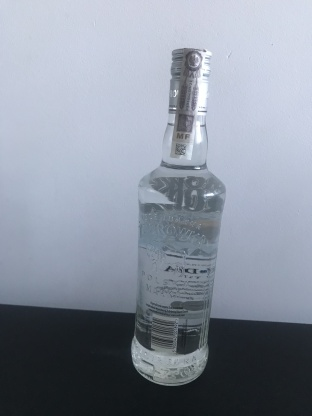nakretka: (166, 43, 214, 117)
